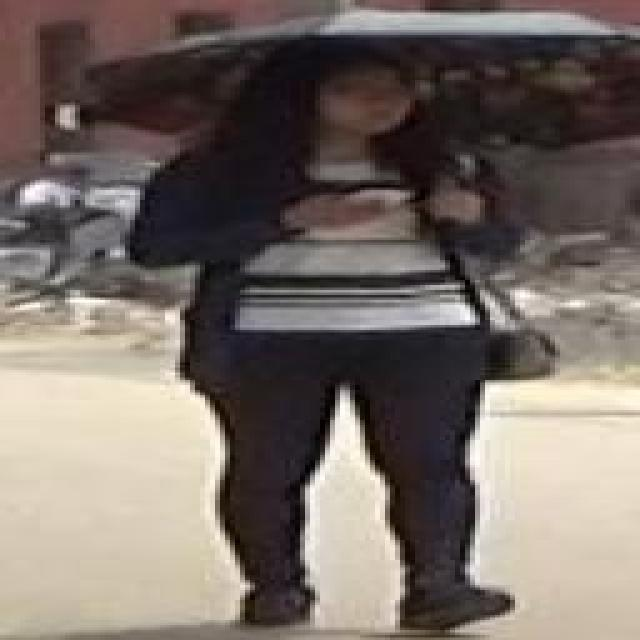adult: (110, 42, 562, 632)
